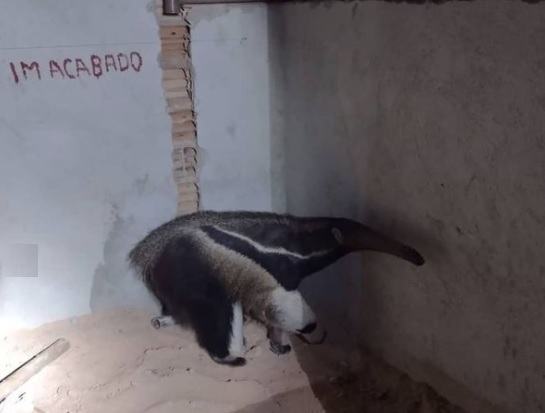TamanduaBandeira: (125, 206, 426, 368)
